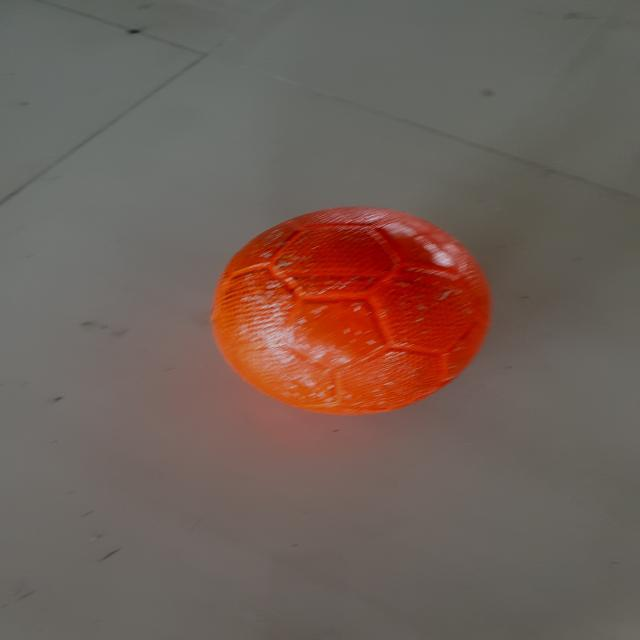bola: (203, 200, 502, 429)
